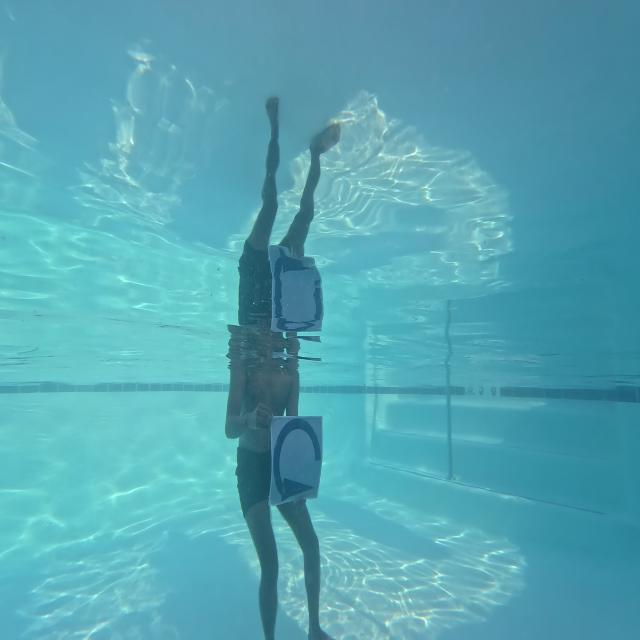blue_side: (274, 412, 320, 508)
